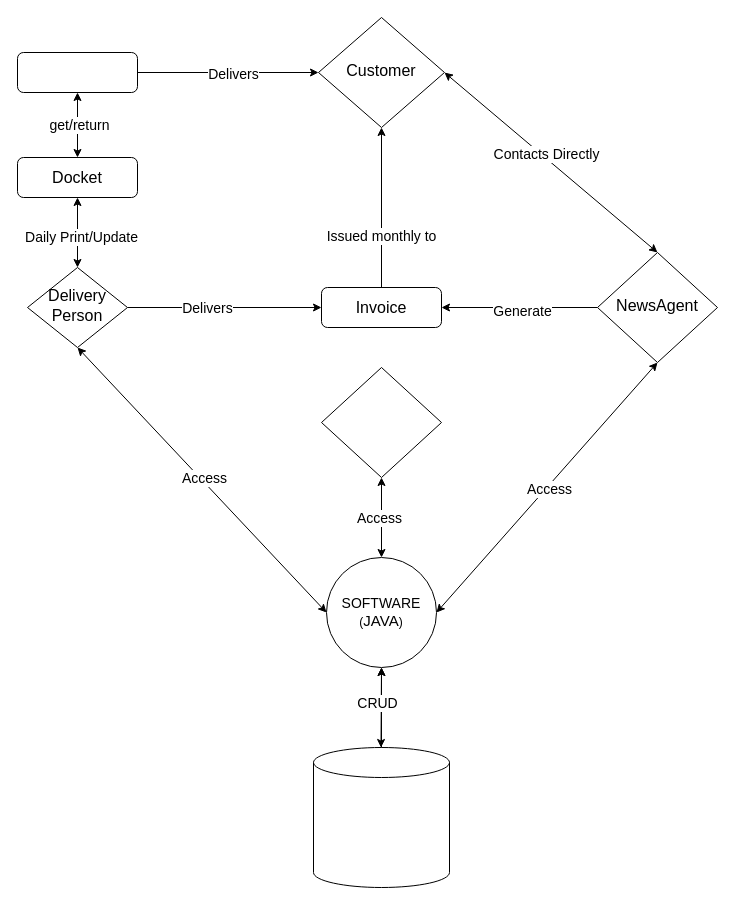
This 735x905 diagram has some shape labels left out. Each missing label, with the centre of its shape:
Admin: point 381,422
Data Base (MySql): point 381,817
Publication: point 77,72
